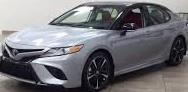Cars: (2, 4, 188, 90)
